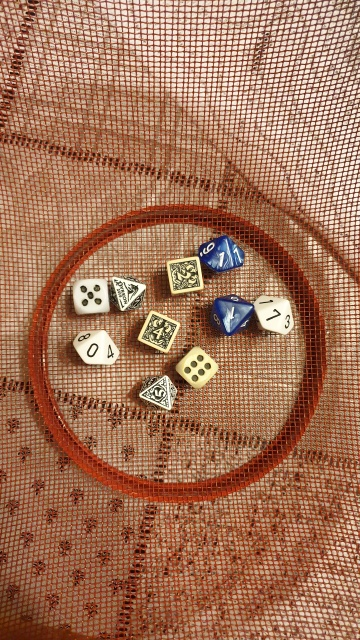d10-1: (208, 290, 254, 338), (197, 236, 248, 277)
d10-10: (69, 325, 122, 373)
d10-7: (251, 292, 298, 341)
d6-5: (71, 275, 112, 317)
d6-6: (174, 346, 219, 391)
d6p-2: (161, 254, 206, 296)
d6p-4: (131, 308, 179, 354)
d8p-1: (110, 274, 148, 315)
d8p-5: (136, 372, 177, 415)
